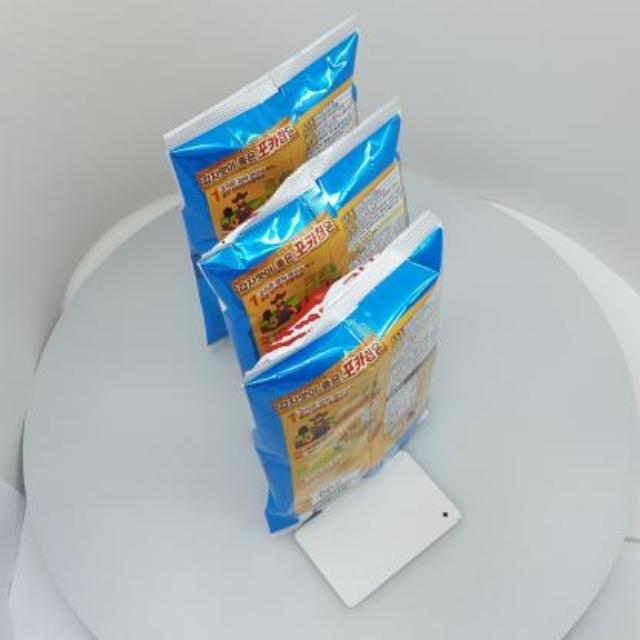snack_bag: (147, 4, 465, 548)
